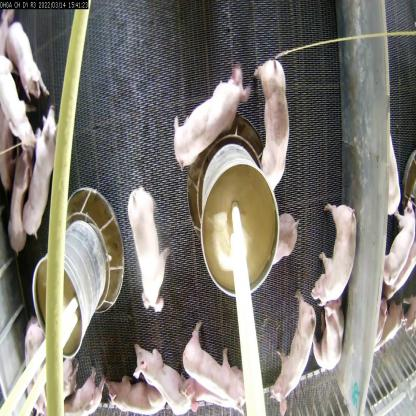Pig: (174, 74, 262, 185), (121, 172, 174, 328), (177, 326, 257, 416), (245, 53, 297, 180), (22, 102, 67, 236), (273, 304, 323, 412), (136, 342, 202, 415), (0, 53, 42, 165), (318, 198, 360, 303), (39, 375, 115, 415), (105, 365, 164, 416), (313, 298, 350, 377), (4, 146, 30, 258)
